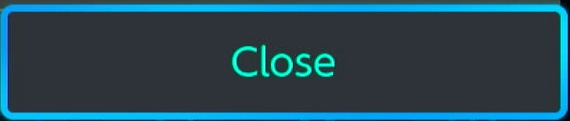close_button: (1, 2, 570, 121)
